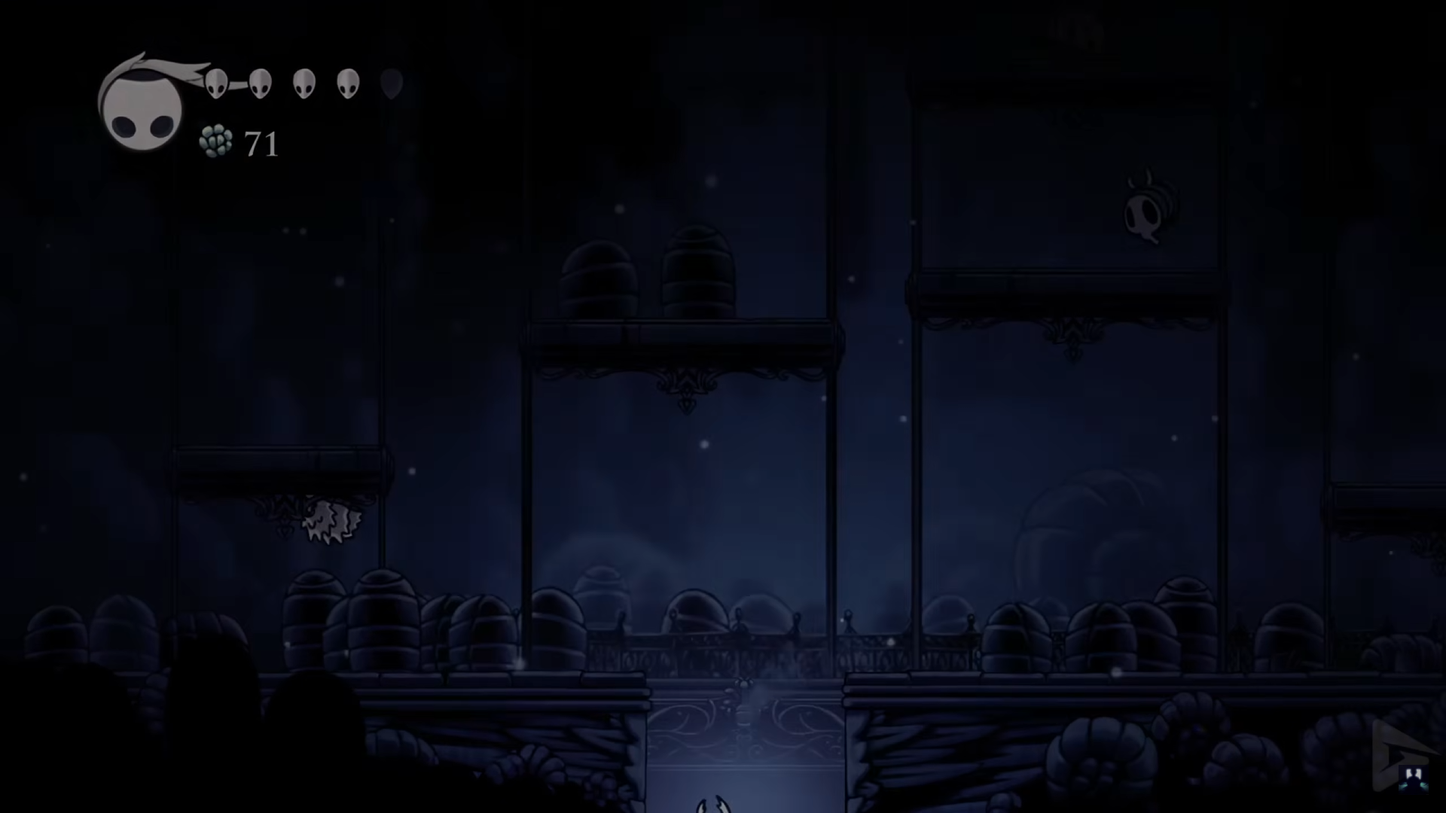HK: (689, 789, 733, 813)
